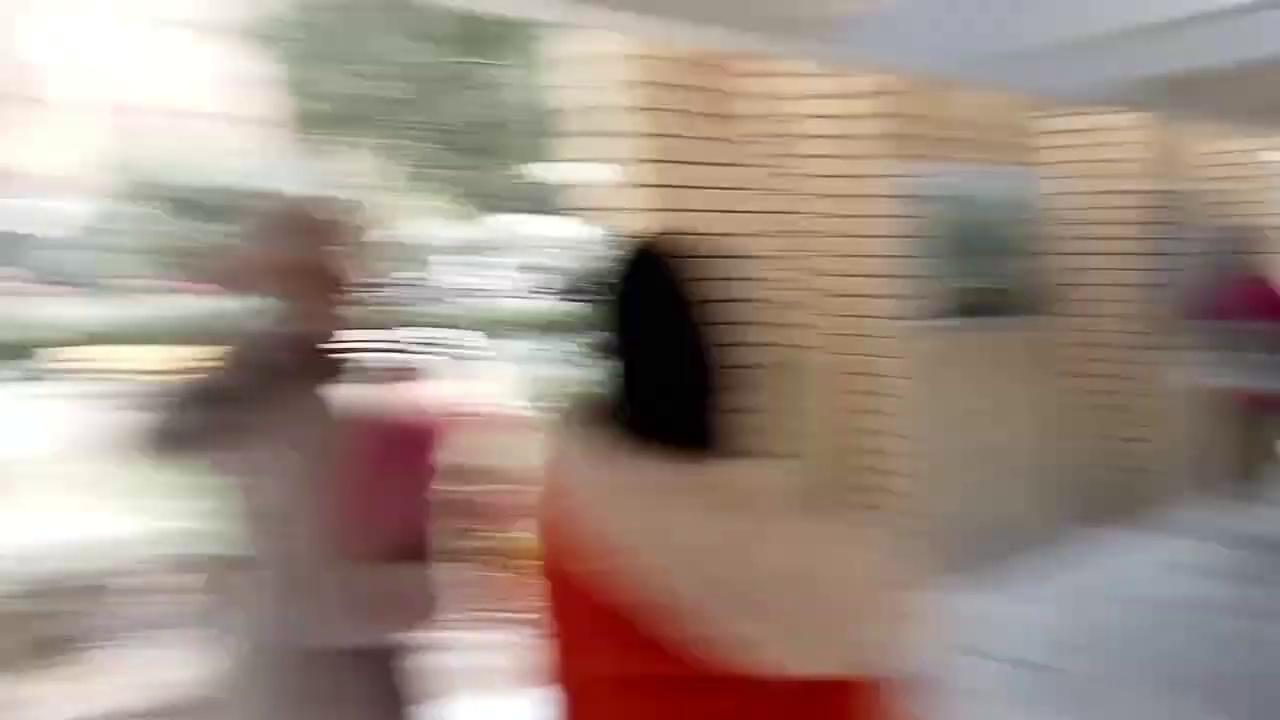person: (536, 243, 939, 718), (145, 199, 440, 718)
tree: (232, 0, 629, 407), (246, 0, 564, 221)
